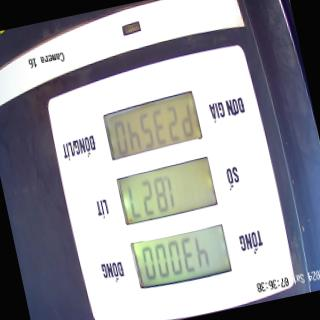screen: (98, 84, 235, 297)
